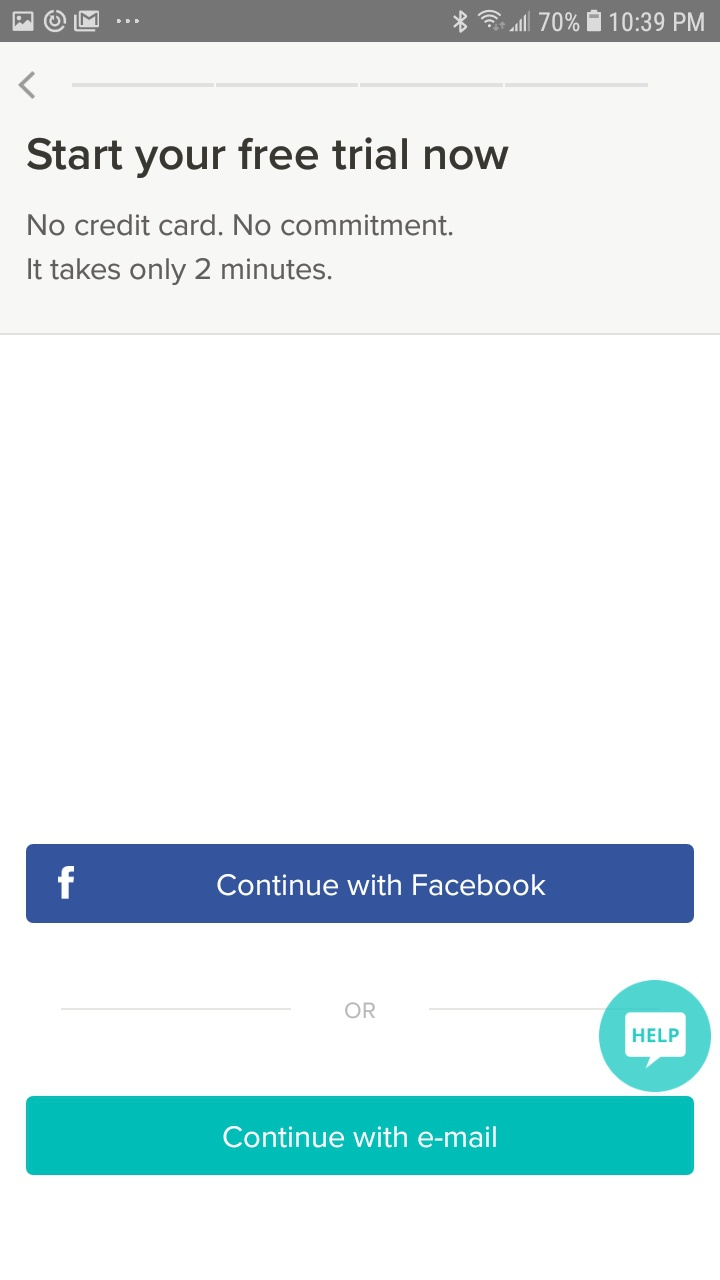Icon: (599, 980, 711, 1093), (18, 72, 37, 100)
Text: (28, 213, 454, 286), (27, 137, 510, 180), (345, 1001, 376, 1019)
TextButton: (26, 1096, 695, 1176), (27, 844, 694, 924)
UpperTaskBar: (1, 1, 720, 43)
